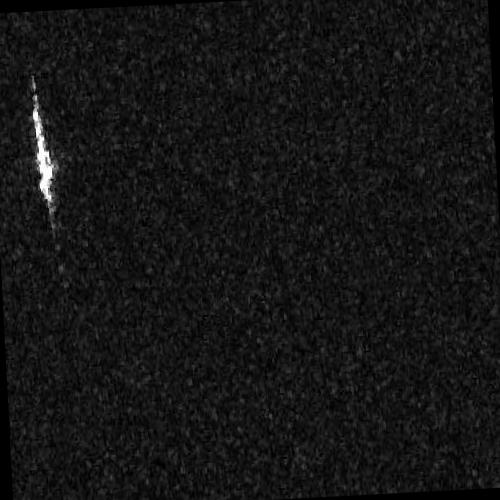ship: (30, 88, 55, 208)
